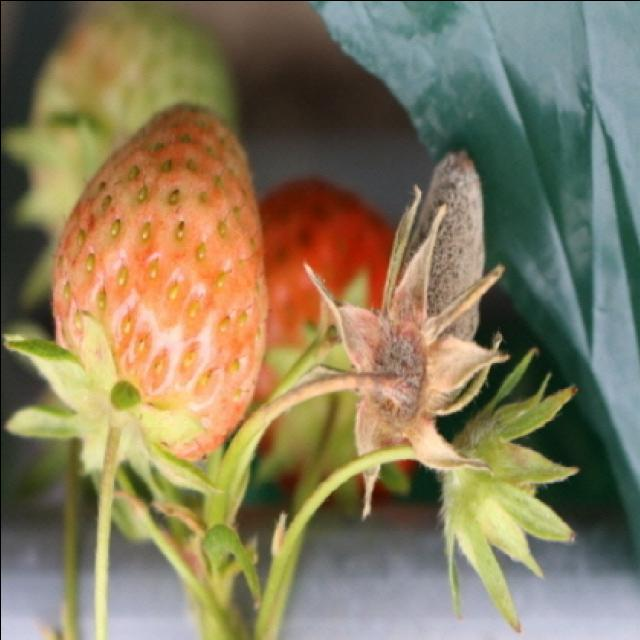Gray Mold: (304, 148, 511, 519)
